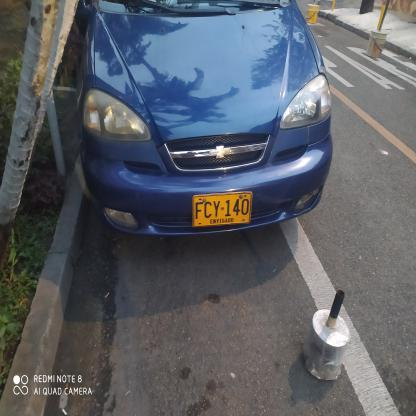placa: (189, 190, 253, 228)
